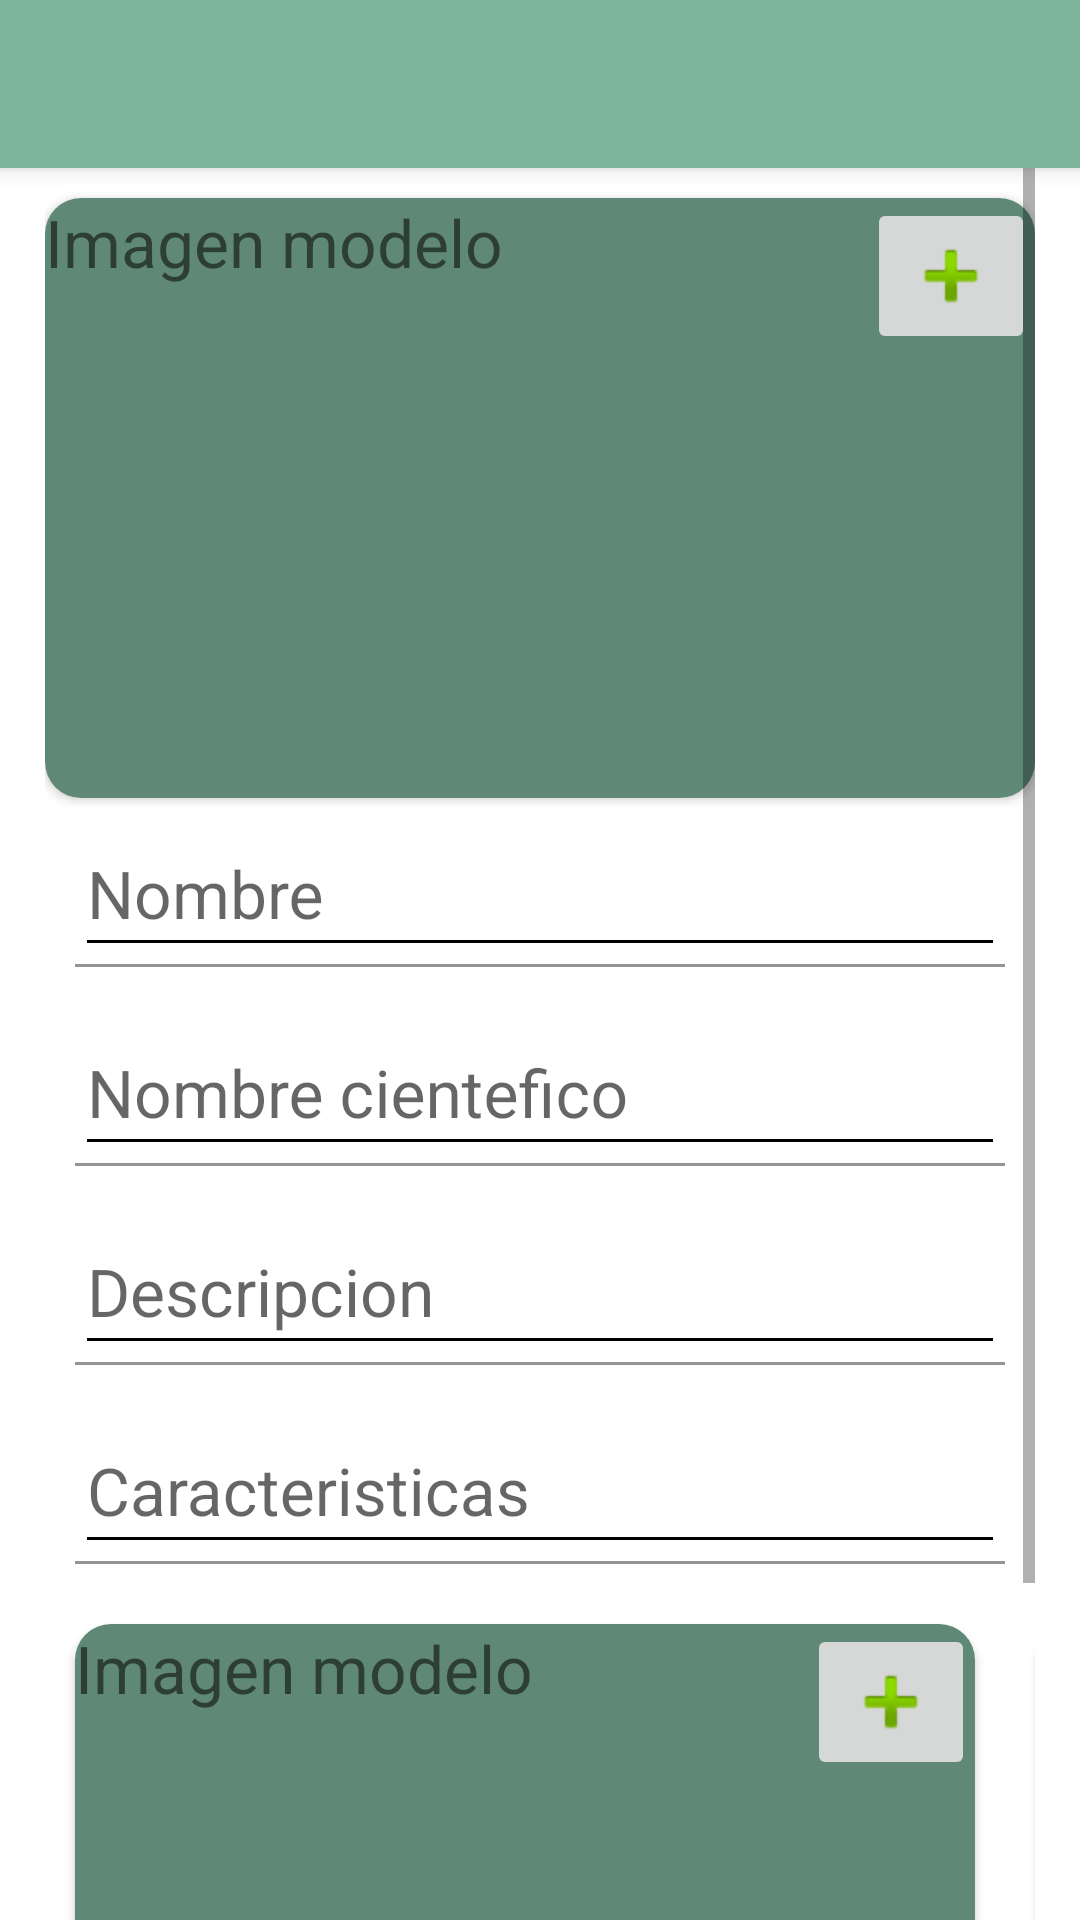

Point at icon controls on the screen. Image size 1080 × 1920, points as [x,y].
add: [951,276], [891,1702]
